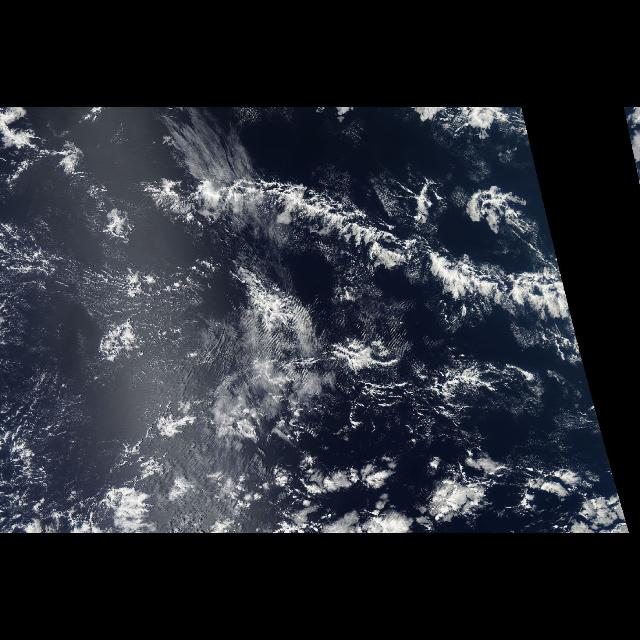Fish: (105, 150, 577, 356)
Flower: (294, 456, 596, 530)
Sugar: (44, 252, 496, 458)
